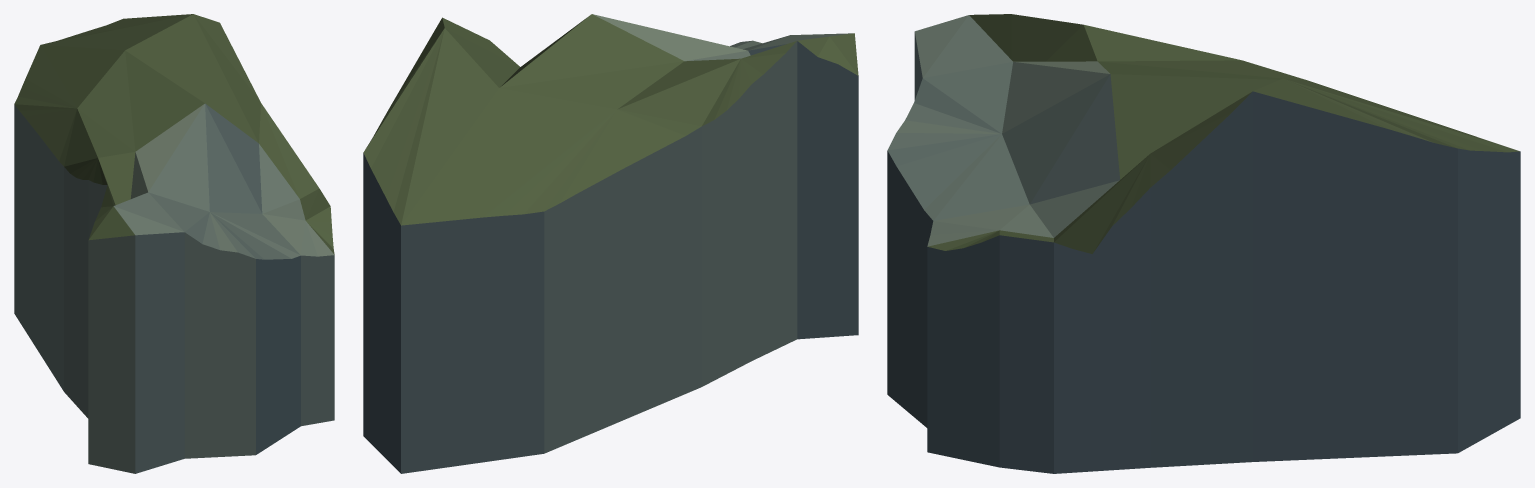
Rendered from cliff_shadow_buttress.glb.
The picture shows the model from 3 angles, left to right: view 1: azimuth 30°, elevation 25°; view 2: azimuth 150°, elevation 25°; view 3: azimuth 270°, elevation 25°; orthographic projection. The views are drawn at different scales.
Parts seen in each view (by area): view 1: cliff_shadow_buttress; view 2: cliff_shadow_buttress; view 3: cliff_shadow_buttress.
Part boxes in pixels (x1,y1,x2,y2): cliff_shadow_buttress: (14, 14, 334, 473); cliff_shadow_buttress: (363, 14, 858, 473); cliff_shadow_buttress: (887, 14, 1520, 473).
Bounding box in the file's own units: 63.16 × 68.59 × 105.
